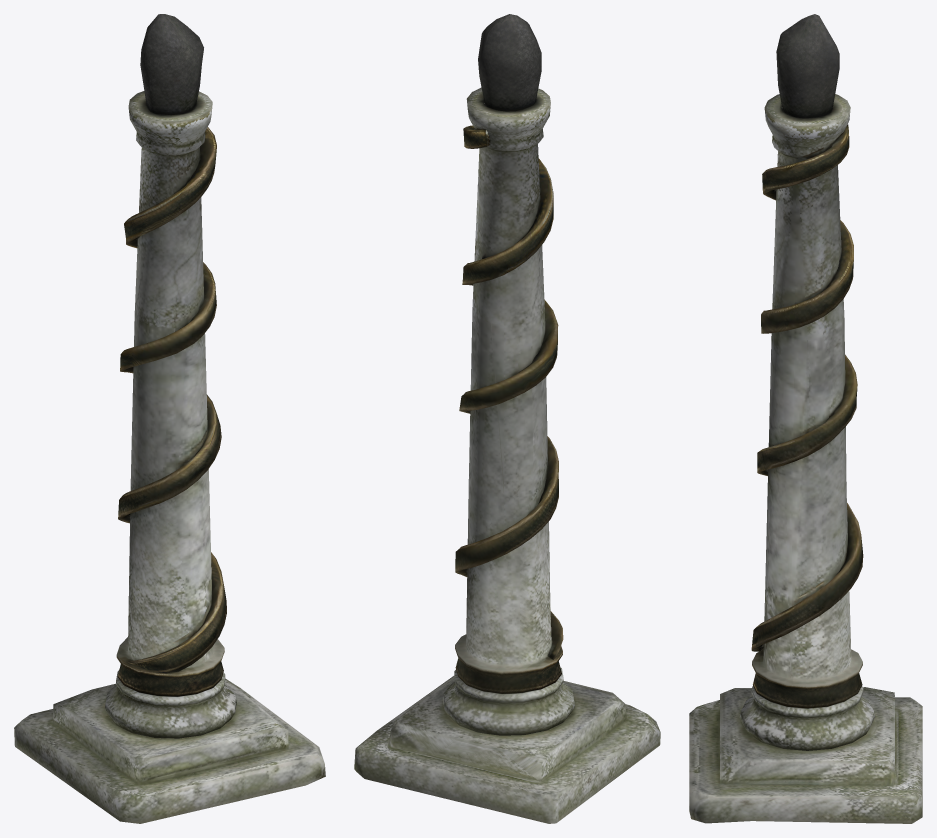
3 renders of one model, left to right at view 1: azimuth 30°, elevation 25°; view 2: azimuth 150°, elevation 25°; view 3: azimuth 270°, elevation 25°, orthographic.
Visible parts, largest first — view 1: cone; view 2: cone; view 3: cone.
Part boxes in pixels (left/top/right/bottom): cone: left=14, top=14, right=325, bottom=823; cone: left=354, top=14, right=660, bottom=823; cone: left=689, top=14, right=922, bottom=823.
Bounding box in the file's own units: 0.2837 × 0.9995 × 0.2788.
1 material, 1 textured.
